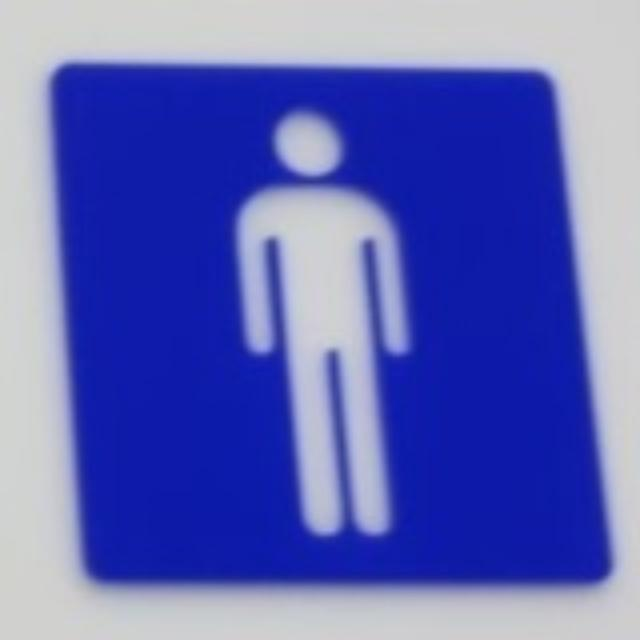mens_restroom: (52, 68, 604, 576)
